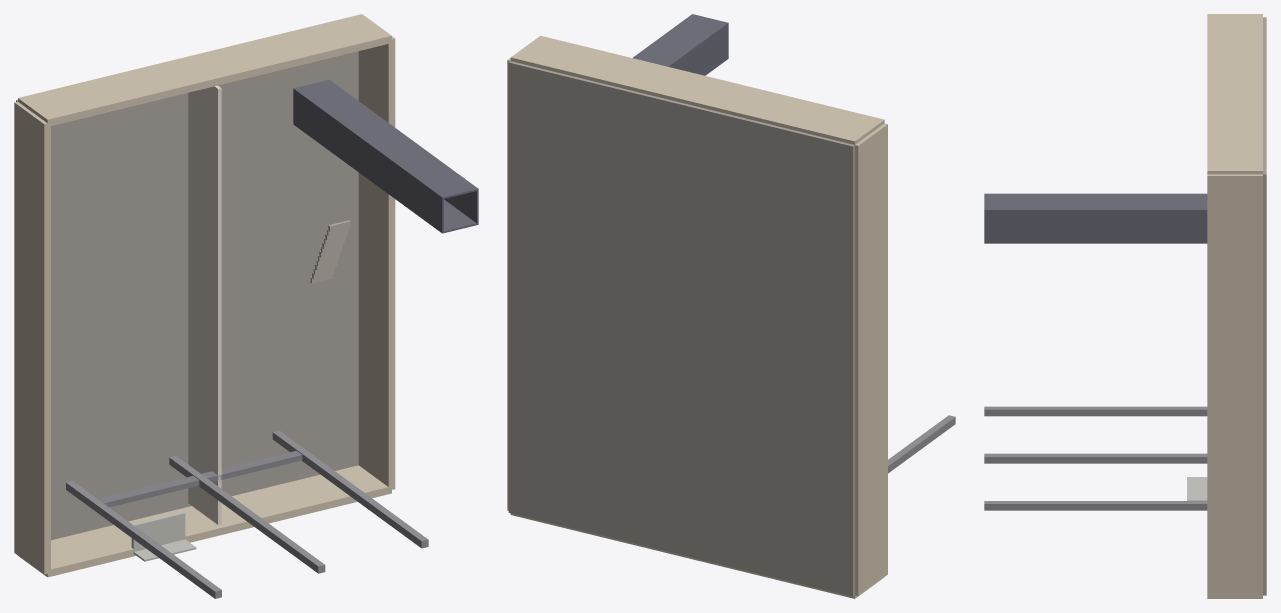
3 renders of one model, left to right at view 1: azimuth 30°, elevation 25°; view 2: azimuth 150°, elevation 25°; view 3: azimuth 270°, elevation 25°, orthographic. The views are drawn at different scales.
Parts seen in each view (by area): view 1: slab_slab_f0, wall_wall_f0_ext_w, wall_wall_f0_int_1, wall_wall_f0_ext_e, wall_wall_f0_ext_n, elevator_elevator_1, wall_wall_f0_ext_s, col_col_A1_1, col_col_A3_1, col_col_A2_1, balcony_balcony_f1_1, stair_stair_1 (+2 smaller); view 2: slab_slab_f0, wall_wall_f0_ext_w, wall_wall_f0_ext_n, elevator_elevator_1, col_col_A1_1, wall_wall_f0_ext_e, wall_wall_f0_ext_s; view 3: wall_wall_f0_ext_e, elevator_elevator_1, wall_wall_f0_ext_n, col_col_A2_1, col_col_A1_1, slab_slab_f0, col_col_A3_1, balcony_balcony_f1_1.
Part boxes in pixels (box(x1,y1,x2,y2)): slab_slab_f0: box(16, 51, 358, 540); wall_wall_f0_ext_w: box(14, 101, 50, 574); wall_wall_f0_int_1: box(188, 85, 221, 524); wall_wall_f0_ext_e: box(358, 36, 395, 490); wall_wall_f0_ext_n: box(18, 14, 391, 126); elevator_elevator_1: box(293, 79, 478, 233); wall_wall_f0_ext_s: box(19, 465, 391, 577); col_col_A1_1: box(66, 481, 221, 598); col_col_A3_1: box(272, 430, 428, 548); col_col_A2_1: box(169, 456, 325, 573); balcony_balcony_f1_1: box(131, 512, 196, 561); stair_stair_1: box(310, 220, 350, 283); slab_slab_f0: box(508, 61, 854, 596); wall_wall_f0_ext_w: box(855, 123, 887, 595); wall_wall_f0_ext_n: box(510, 35, 884, 144); elevator_elevator_1: box(633, 14, 728, 75); col_col_A1_1: box(888, 415, 955, 473); wall_wall_f0_ext_e: box(507, 58, 510, 510); wall_wall_f0_ext_s: box(510, 513, 884, 598); wall_wall_f0_ext_e: box(1207, 174, 1262, 597); elevator_elevator_1: box(984, 193, 1207, 243); wall_wall_f0_ext_n: box(1207, 14, 1262, 174); col_col_A2_1: box(984, 453, 1207, 463); col_col_A1_1: box(984, 406, 1207, 416); slab_slab_f0: box(1263, 17, 1266, 595); col_col_A3_1: box(984, 501, 1207, 510); balcony_balcony_f1_1: box(1187, 477, 1207, 500).
Bounding box in the file's own units: 20.4 × 25.4 × 15.2.
